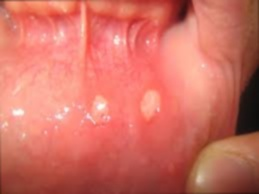Ulcer: (137, 87, 161, 124), (93, 92, 111, 121)
